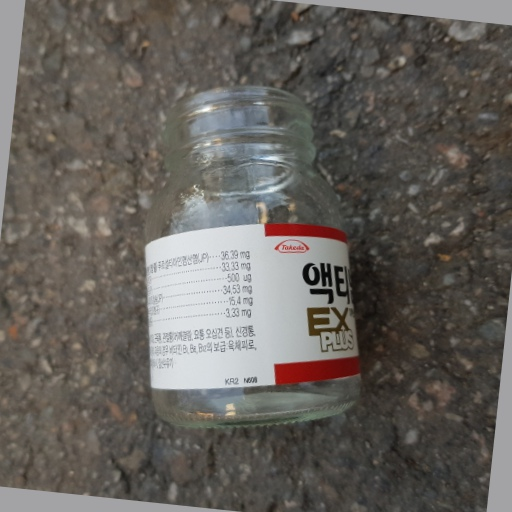Glass_5: (131, 83, 368, 434)
